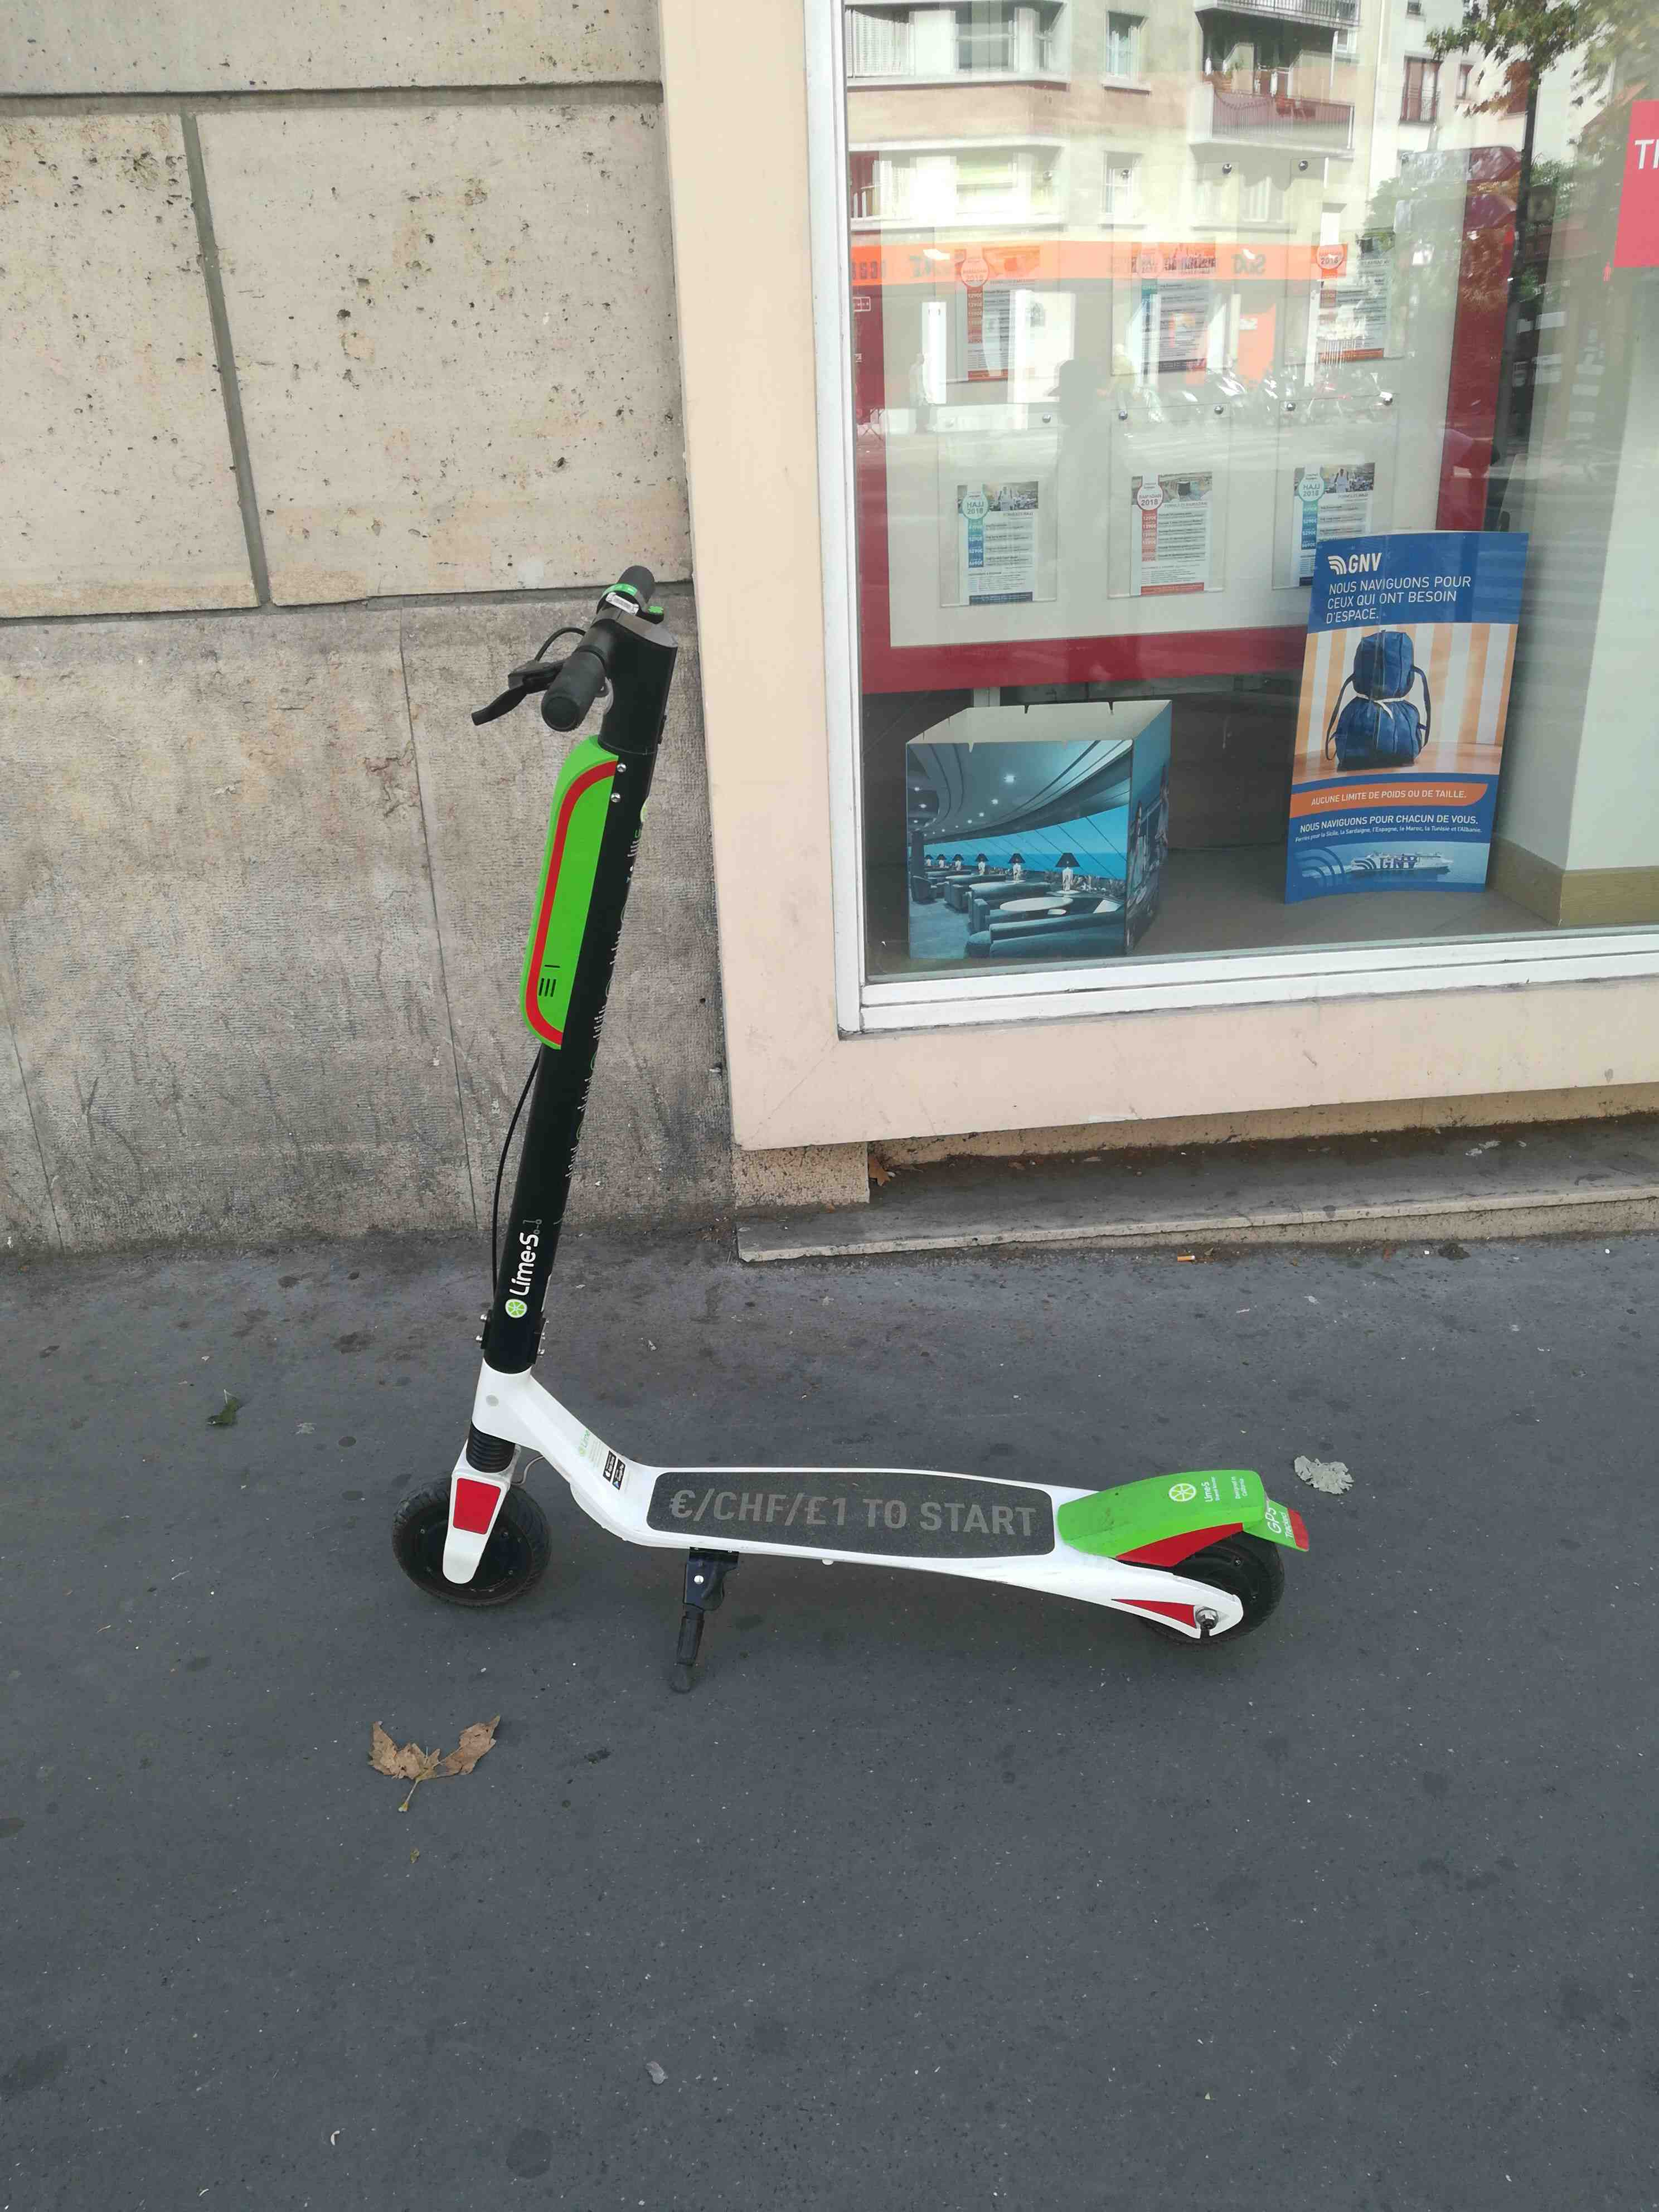scooter: (371, 540, 1302, 1691)
